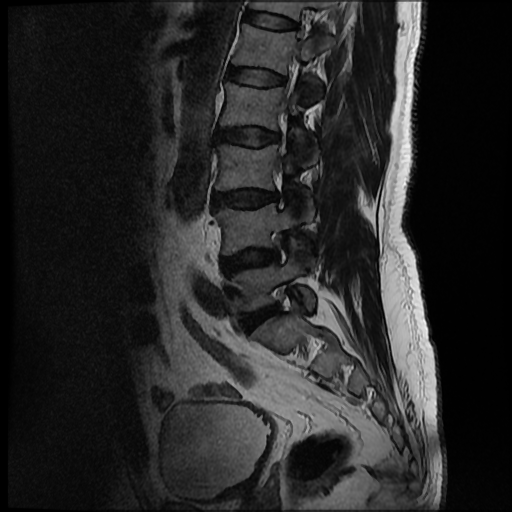LFS0: (267, 272, 303, 324)
LFS1: (260, 218, 301, 273)
